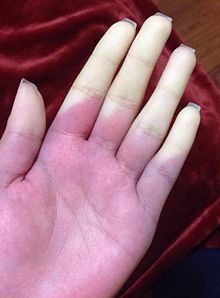finger: (48, 12, 137, 152), (98, 4, 172, 172), (122, 39, 196, 187), (138, 94, 203, 210)
